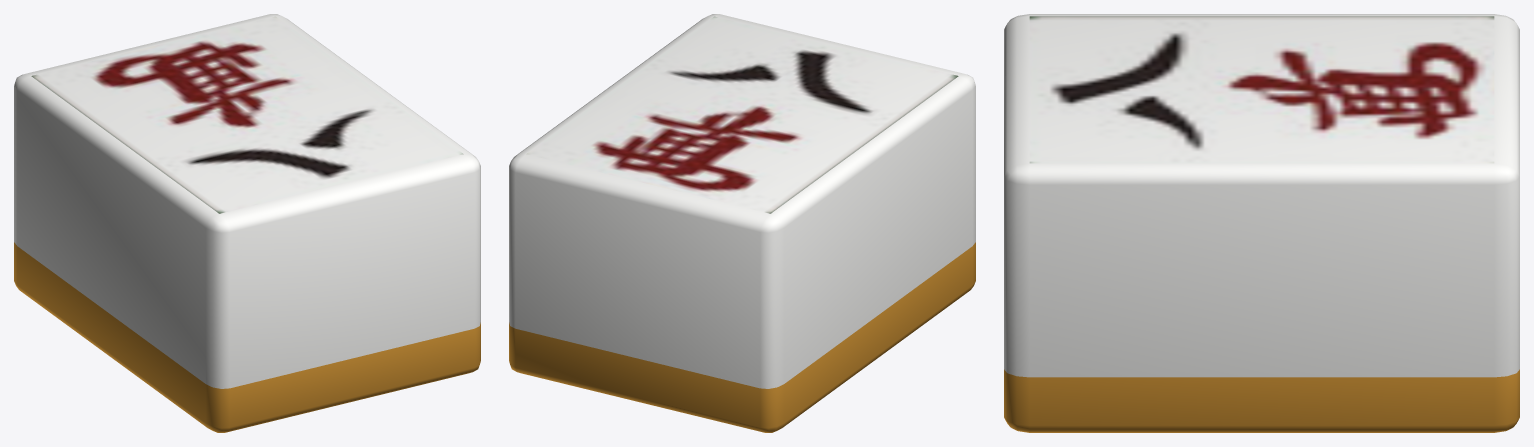
3 views of the same model, side by side, from view 1: azimuth 30°, elevation 25°; view 2: azimuth 150°, elevation 25°; view 3: azimuth 270°, elevation 25° (orthographic). The views are drawn at different scales.
Visible parts, largest first — view 1: hai; view 2: hai; view 3: hai.
Boxes of the visible parts, <box> form: hai: <box>14,14,480,432</box>; hai: <box>509,14,975,432</box>; hai: <box>1004,14,1519,432</box>.
Bounding box in the file's own units: 420 × 320 × 560.
Materials: 3 (1 with a texture image).
